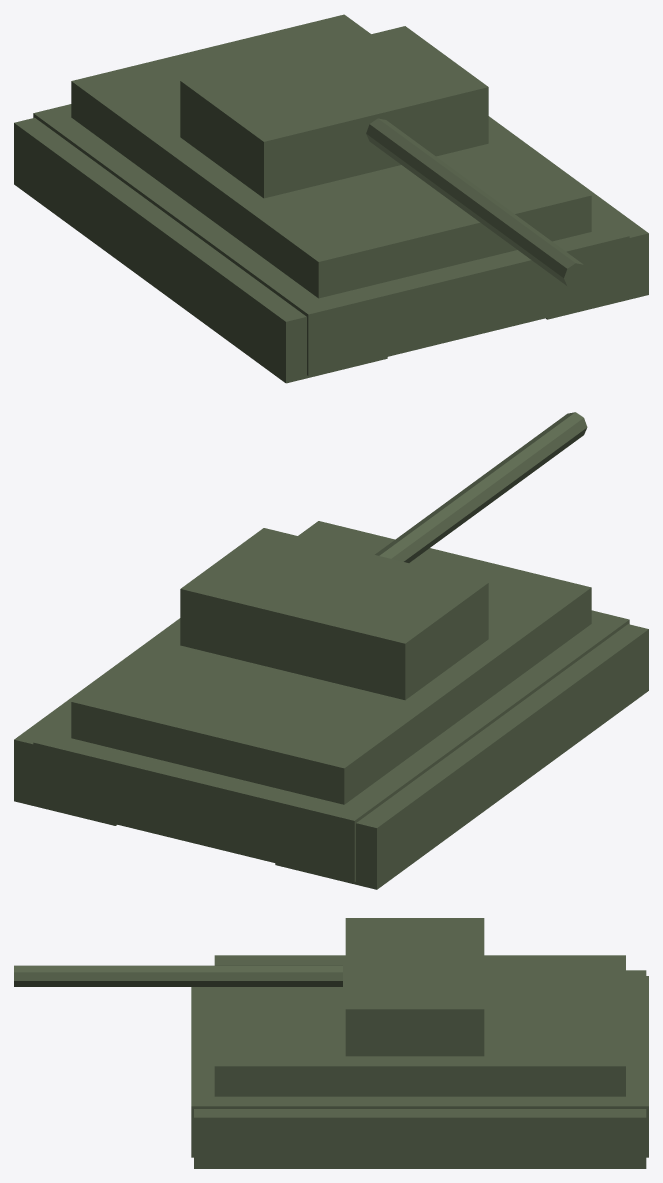
Rendered from light_tank_lod2.obj.
The picture shows the model from 3 angles, top to bottom: view 1: azimuth 30°, elevation 25°; view 2: azimuth 150°, elevation 25°; view 3: azimuth 270°, elevation 25°; orthographic projection. The views are drawn at different scales.
Parts seen in each view (by area): view 1: light_tank_lod2; view 2: light_tank_lod2; view 3: light_tank_lod2.
Part boxes in pixels (x1,y1,x2,y2): light_tank_lod2: [14, 14, 648, 383]; light_tank_lod2: [14, 412, 648, 889]; light_tank_lod2: [14, 918, 648, 1168].
Size of the model in its own units: 3.39 by 1.41 by 6.17.
